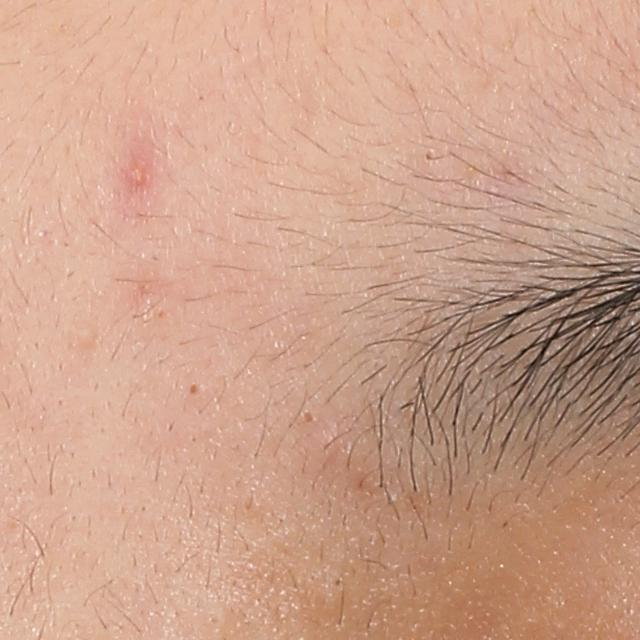comedo: (203, 606, 232, 637), (74, 322, 98, 349), (294, 406, 320, 429), (185, 378, 206, 402), (330, 574, 348, 597)
papule: (116, 155, 149, 197)
